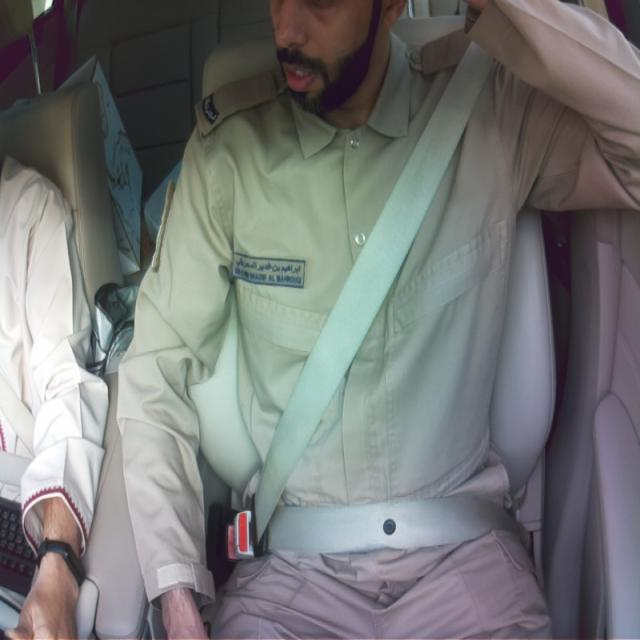seatbelt: (240, 43, 522, 557)
